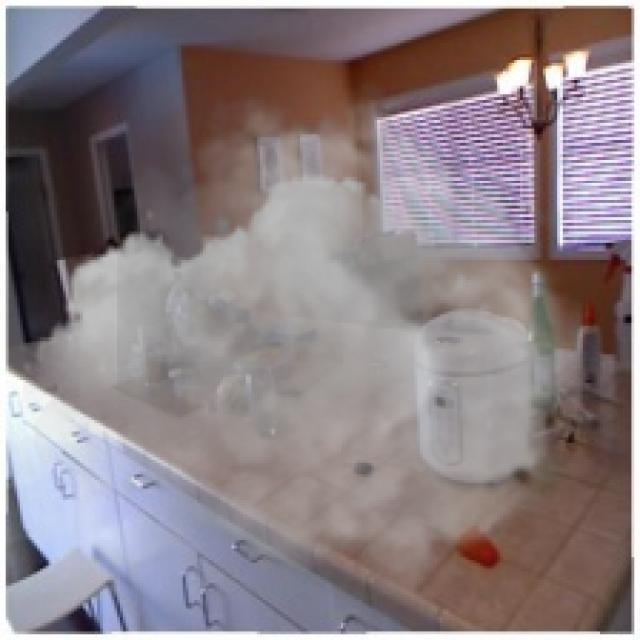Smoke: (23, 77, 583, 606)
